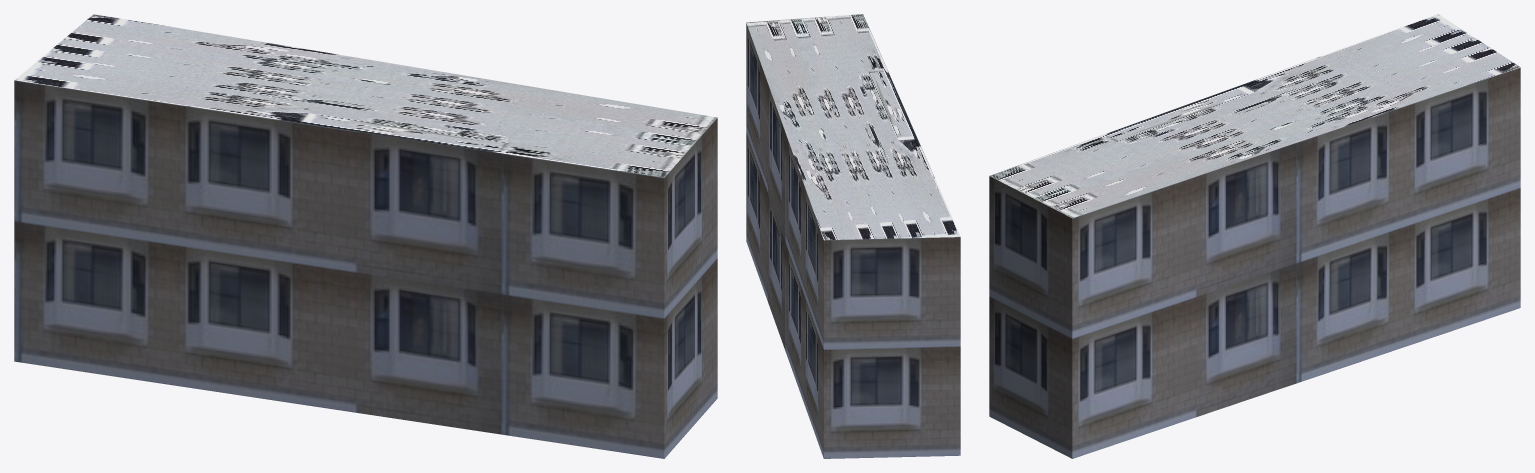
Rendered from ResTex__4773.fbx.
3 renders of one model, left to right at view 1: azimuth 30°, elevation 25°; view 2: azimuth 150°, elevation 25°; view 3: azimuth 270°, elevation 25°, orthographic. The views are drawn at different scales.
Parts seen in each view (by area): view 1: CityEngineMaterial_3_m, CityEngineMaterial_4_m; view 2: CityEngineMaterial_3_m, CityEngineMaterial_4_m; view 3: CityEngineMaterial_3_m, CityEngineMaterial_4_m.
Part boxes in pixels (box(x1,y1,x2,y2)): CityEngineMaterial_3_m: box(14, 80, 717, 458); CityEngineMaterial_4_m: box(15, 14, 717, 177); CityEngineMaterial_3_m: box(746, 23, 960, 458); CityEngineMaterial_4_m: box(746, 14, 960, 240); CityEngineMaterial_3_m: box(989, 67, 1520, 458); CityEngineMaterial_4_m: box(989, 14, 1520, 218).
Size of the model in its own units: 10.93 by 6 by 12.01.
Materials: 2 (2 with a texture image).
